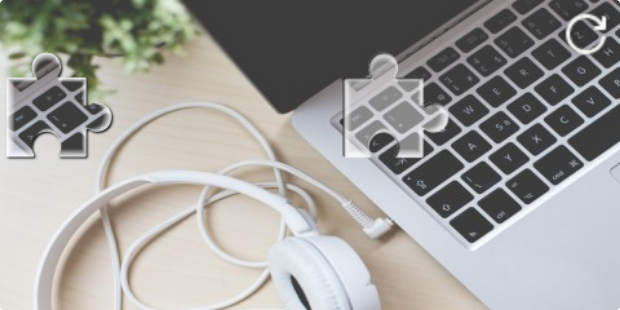target: (344, 53, 448, 158)
